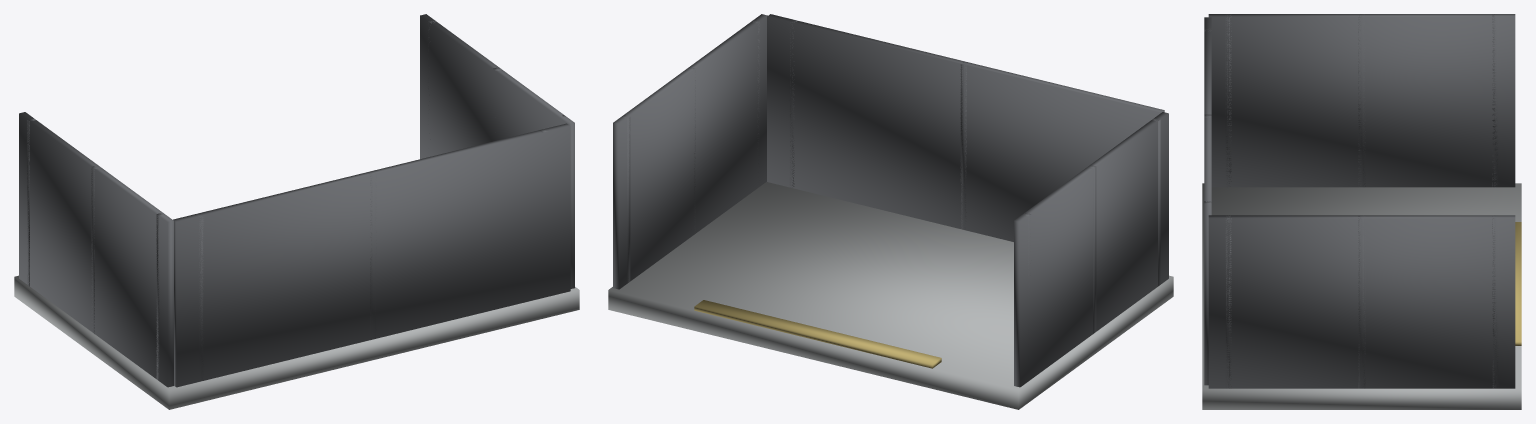
The model's file is floor_w260_d170_three.glb.
3 renders of one model, left to right at view 1: azimuth 30°, elevation 25°; view 2: azimuth 150°, elevation 25°; view 3: azimuth 270°, elevation 25°, orthographic. The views are drawn at different scales.
Visible parts, largest first — view 1: world; view 2: world; view 3: world.
Boxes of the visible parts, <box> form: world: <box>14,14,579,409</box>; world: <box>608,14,1173,409</box>; world: <box>1202,14,1521,409</box>.
Size of the model in its own units: 2.6 by 1.12 by 1.7.
